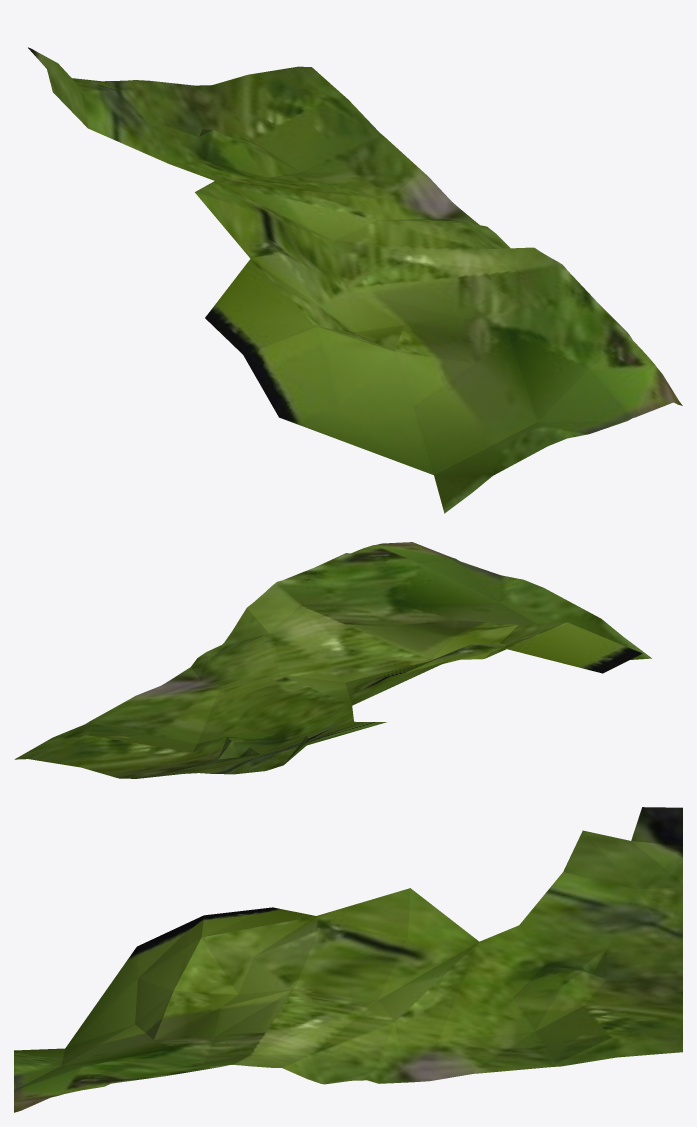
3 renders of one model, top to bottom at view 1: azimuth 30°, elevation 25°; view 2: azimuth 150°, elevation 25°; view 3: azimuth 270°, elevation 25°, orthographic. The views are drawn at different scales.
Size of the model in its own units: 3.5 by 2.42 by 6.7.
Materials: 1 (1 with a texture image).
